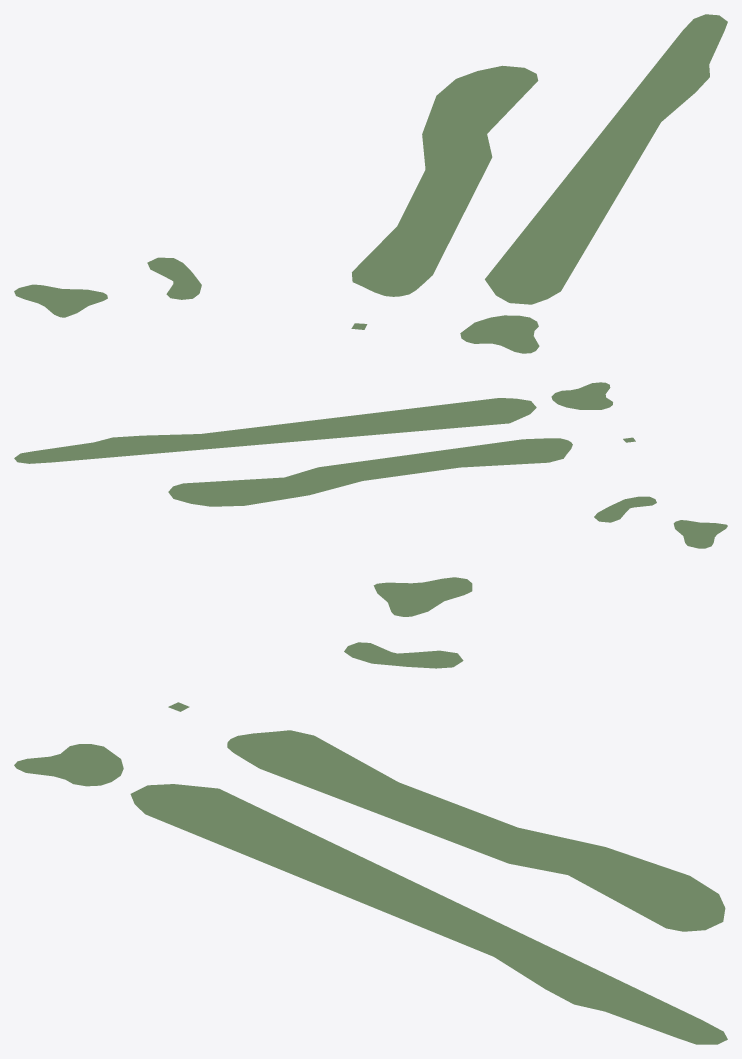
Rendered from c_1646_17822_parks.glb.
3 renders of one model, top to bottom at view 1: azimuth 30°, elevation 25°; view 2: azimuth 150°, elevation 25°; view 3: azimuth 270°, elevation 25°, orthographic. The views are drawn at different scales.
Visible parts, largest first — view 1: geometry_0; view 2: geometry_0; view 3: geometry_0.
Part boxes in pixels (bbox=[...]): geometry_0: bbox=[14, 14, 727, 353]; geometry_0: bbox=[14, 382, 727, 548]; geometry_0: bbox=[14, 577, 727, 1044].
Size of the model in its own units: 350 by 0 by 226.
